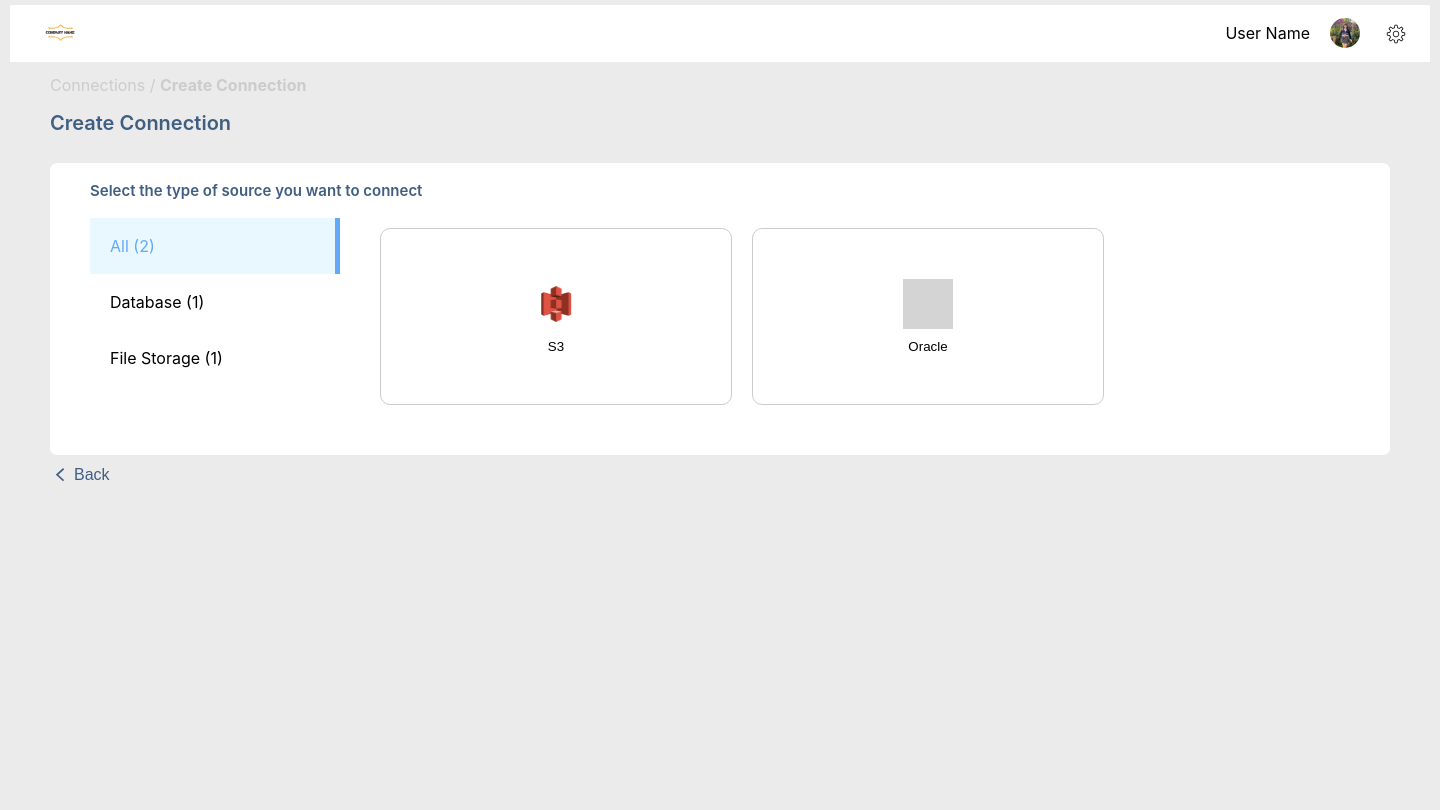
Scenario: connection page › should render page of s3 when click S3 button
What coordinates should you click on to do the following:
click the button "S3"
I would click on:
 (556, 316)
Its box is [380,228,732,405].
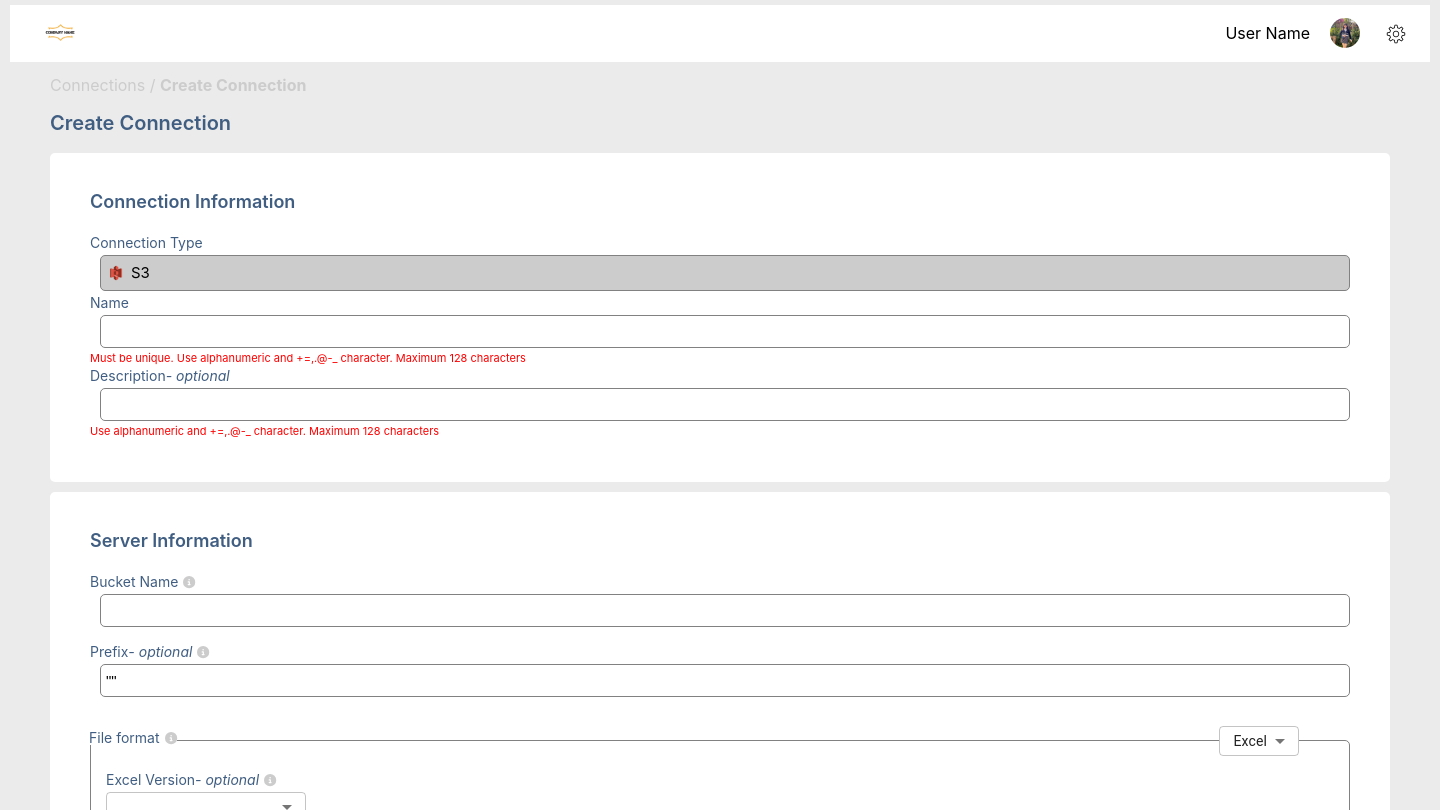
expect the text "Bucket Name" is shown: met, box [90,575,1350,589]
